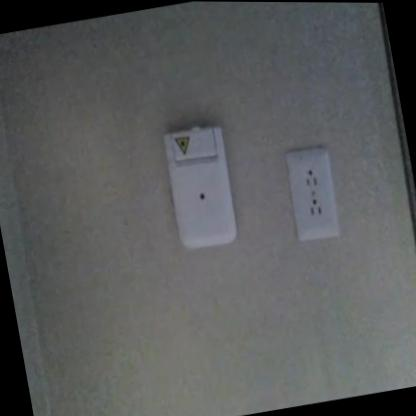OUTLET: (283, 147, 342, 242)
